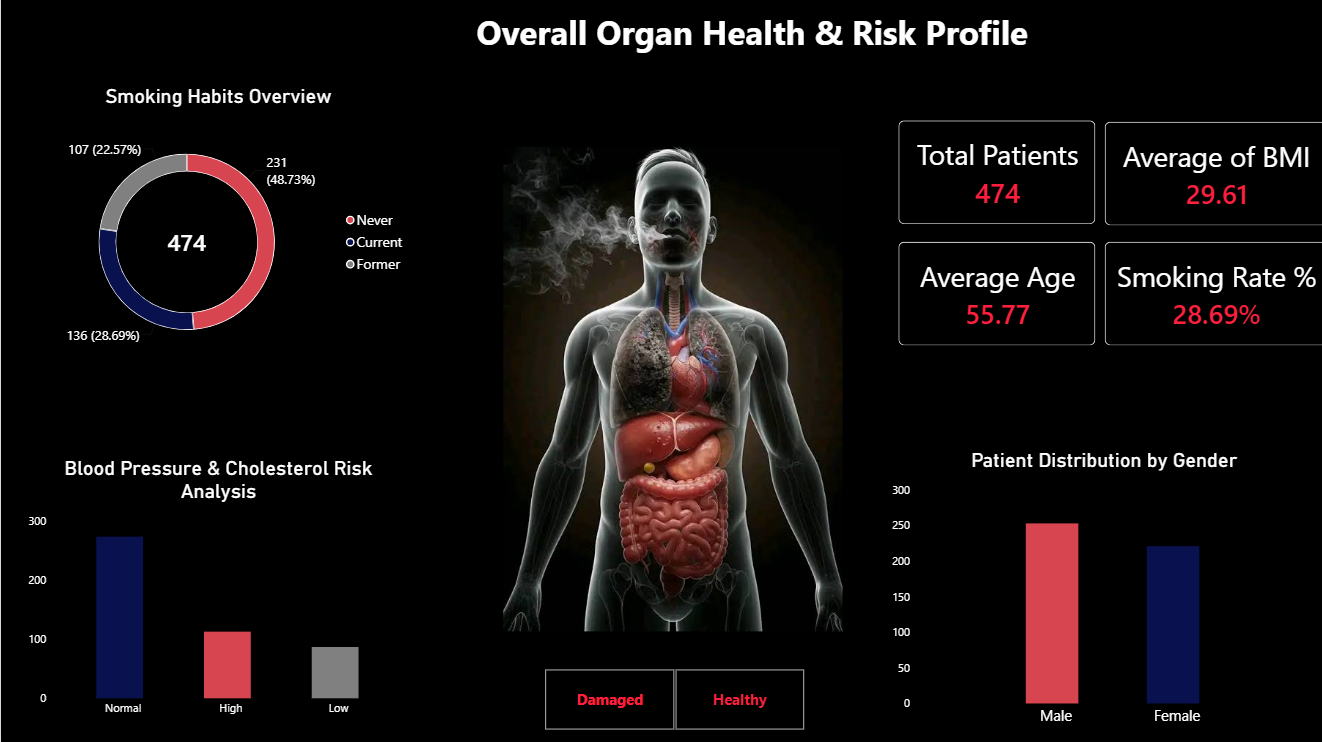

Layout of this report page (visuals, bound fields, positions):
{"tool":"powerbi","page":{"name":"Human Body","canvas":[1920,1080],"ordinal":3},"visuals":[{"type":"image","box":[628,215.3,689.5,701.9],"z":0},{"type":"donutChart","title":"Smoking Habits Overview","fields":{"Category":["HealthData.Smoking_Status"],"Y":["CountNonNull(HealthData.Patient_ID)"]},"box":[23.5,110.4,582.7,437.9],"z":1000},{"type":"clusteredColumnChart","title":"Patient Distribution by Gender","fields":{"Category":["HealthData.Gender"],"Y":["CountNonNull(HealthData.Patient_ID)"]},"box":[1274,637,646,437.9],"z":2000},{"type":"clusteredColumnChart","title":"Blood Pressure & Cholesterol Risk Analysis","fields":{"Category":["HealthData.BP_Risk"],"Y":["CountNonNull(HealthData.Patient_ID)"]},"box":[23.5,649.7,582.7,410.8],"z":3000},{"type":"textbox","box":[255.2,16.3,1664.9,92.3],"z":3001},{"type":"cardVisual","fields":{"Data":["HealthData.Total Patients"]},"box":[1299.3,177.3,285.9,150.2],"z":3002},{"type":"cardVisual","fields":{"Data":["Avg(HealthData.BMI)"]},"box":[1597.9,179.2,322.1,150.2],"z":3003},{"type":"cardVisual","fields":{"Data":["HealthData.Average Age"]},"box":[1299.3,352.9,285.9,150.2],"z":3004},{"type":"cardVisual","fields":{"Data":["HealthData.Smoking Rate %"]},"box":[1597.9,352.9,322.1,150.2],"z":3005},{"type":"slicer","fields":{"Values":["HealthData.Organ_Condition"]},"box":[767.3,970,414.4,90.5],"z":3006}]}

Visuals, with their boxes in screenshot pixels (x1, y1, x2, y2), scaled from the page's 1920x1080 canvas onto the 1322x742 screenshot:
image: [left=432, top=148, right=907, bottom=630]
"Smoking Habits Overview" donutChart: [left=16, top=76, right=417, bottom=377]
"Patient Distribution by Gender" clusteredColumnChart: [left=877, top=438, right=1321, bottom=738]
"Blood Pressure & Cholesterol Risk Analysis" clusteredColumnChart: [left=16, top=446, right=417, bottom=729]
textbox: [left=176, top=11, right=1321, bottom=75]
cardVisual - HealthData.Total Patients: [left=895, top=122, right=1091, bottom=225]
cardVisual - Avg(HealthData.BMI): [left=1100, top=123, right=1321, bottom=226]
cardVisual - HealthData.Average Age: [left=895, top=242, right=1091, bottom=346]
cardVisual - HealthData.Smoking Rate %: [left=1100, top=242, right=1321, bottom=346]
slicer - HealthData.Organ_Condition: [left=528, top=666, right=814, bottom=729]
